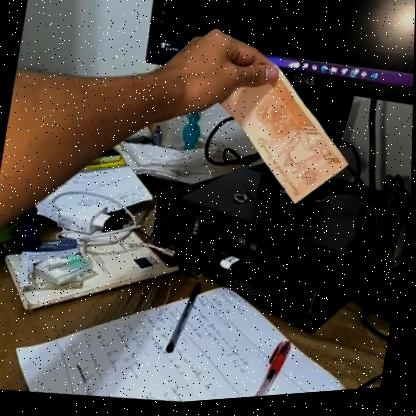twenty-back-vef: (201, 39, 368, 221)
